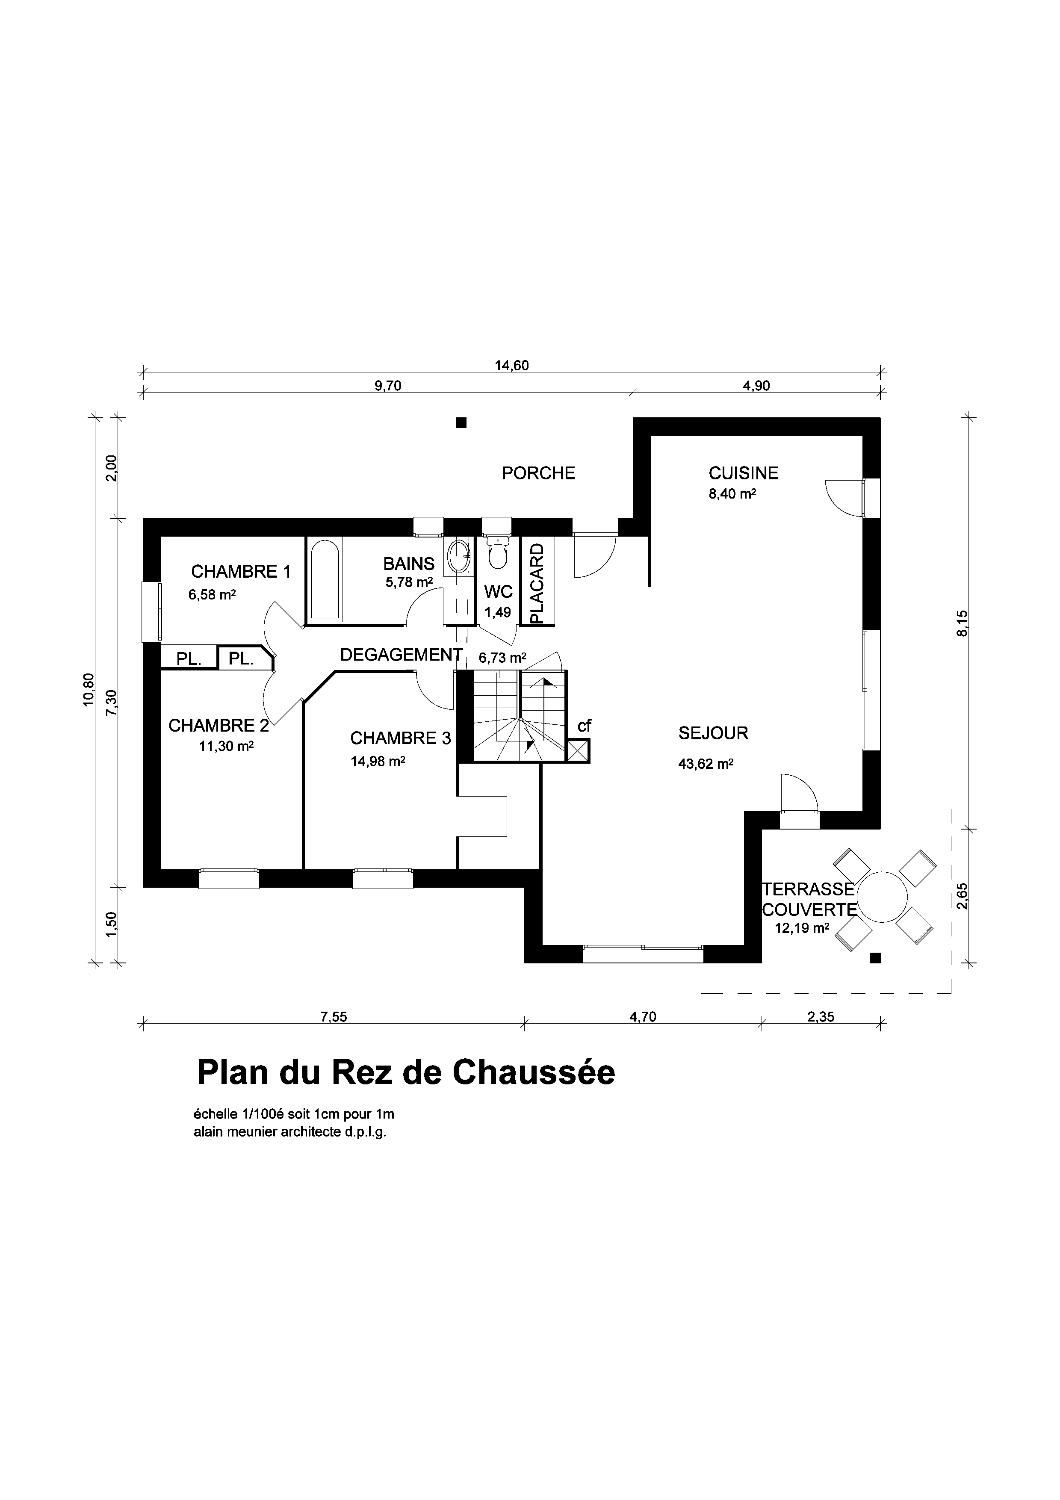bath tab: (307, 537, 344, 624)
ceramic sink: (443, 536, 474, 578)
door: (572, 517, 618, 579), (263, 599, 307, 661), (263, 667, 306, 727), (824, 478, 881, 519), (779, 774, 820, 830), (413, 669, 457, 711), (403, 587, 446, 628), (476, 623, 520, 646)
sliding door: (859, 628, 883, 753), (582, 945, 704, 964)
toilet: (486, 538, 510, 570)
window: (140, 579, 164, 644), (352, 867, 416, 890), (198, 867, 262, 890), (413, 517, 444, 538)
